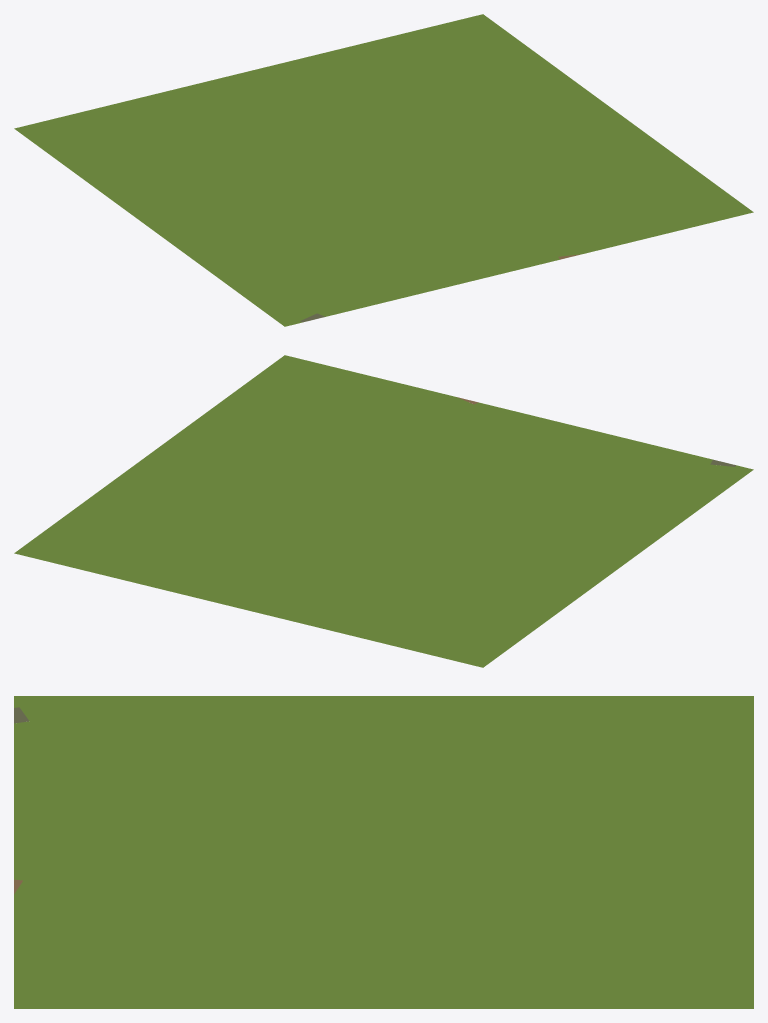
Rendered from cure-18-0.glb.
3 renders of one model, top to bottom at view 1: azimuth 30°, elevation 25°; view 2: azimuth 150°, elevation 25°; view 3: azimuth 270°, elevation 25°, orthographic. The views are drawn at different scales.
Visible parts, largest first — view 1: cure-18-0; view 2: cure-18-0; view 3: cure-18-0.
Boxes of the visible parts, <box> form: cure-18-0: <box>14,14,753,326</box>; cure-18-0: <box>14,355,753,667</box>; cure-18-0: <box>14,696,753,1008</box>.
Bounding box in the file's own units: 100 × 0.003 × 100.
